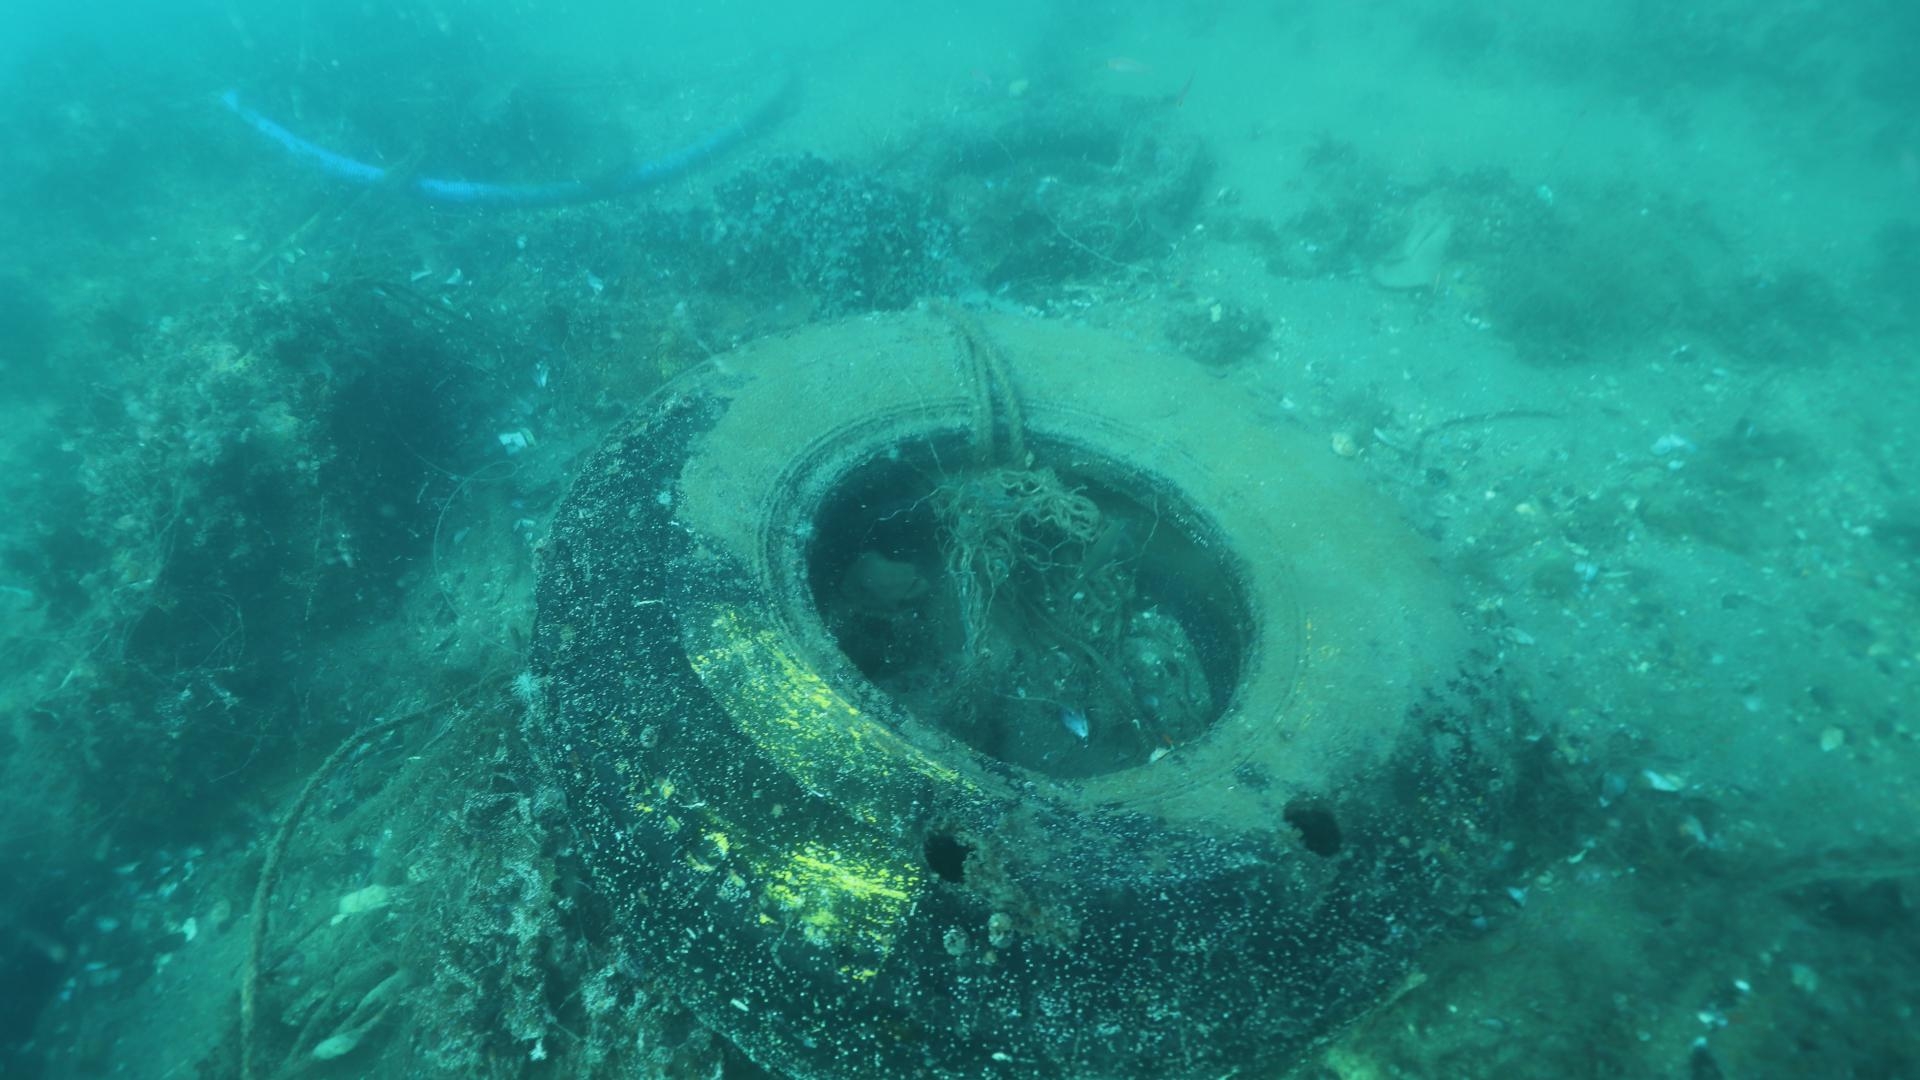bundle of ropes: (924, 295, 1027, 472)
tire: (518, 284, 1498, 1080)
